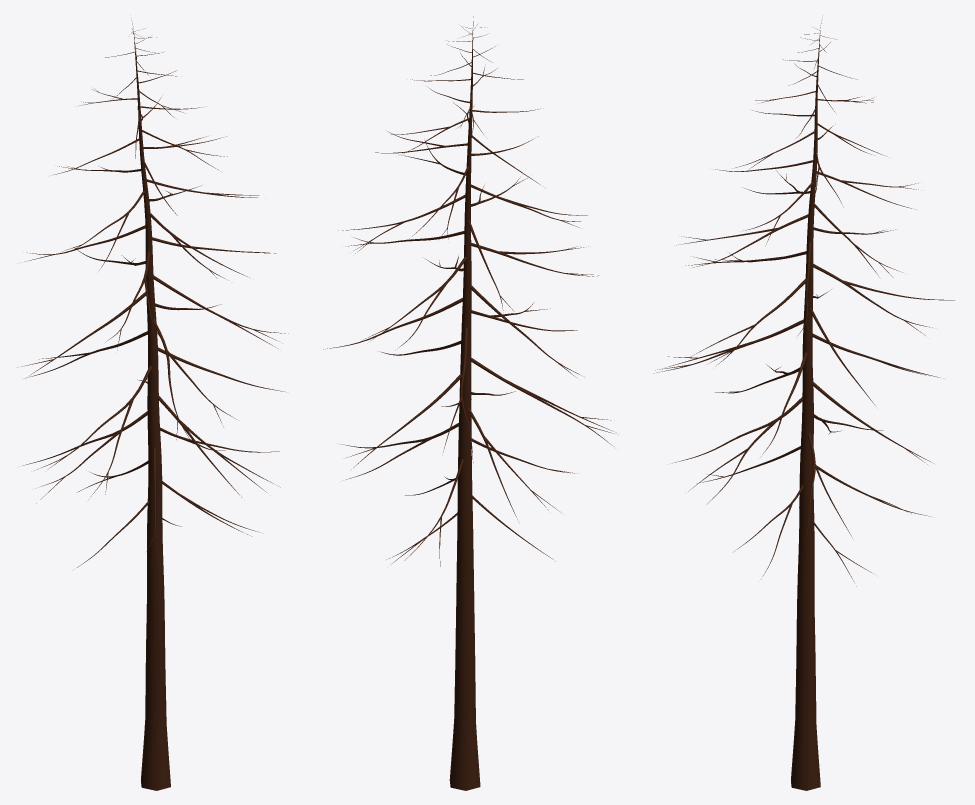
File: tree2.fbx
The picture shows the model from 3 angles, left to right: view 1: azimuth 30°, elevation 25°; view 2: azimuth 150°, elevation 25°; view 3: azimuth 270°, elevation 25°; orthographic projection. The views are drawn at different scales.
Parts seen in each view (by area): view 1: tree.001; view 2: tree.001; view 3: tree.001.
Boxes of the visible parts, box(x1,y1,x2,y2) form: tree.001: box(22, 20, 288, 790); tree.001: box(323, 16, 616, 790); tree.001: box(654, 20, 954, 790).
Size of the model in its own units: 1690 by 4620 by 1706.
